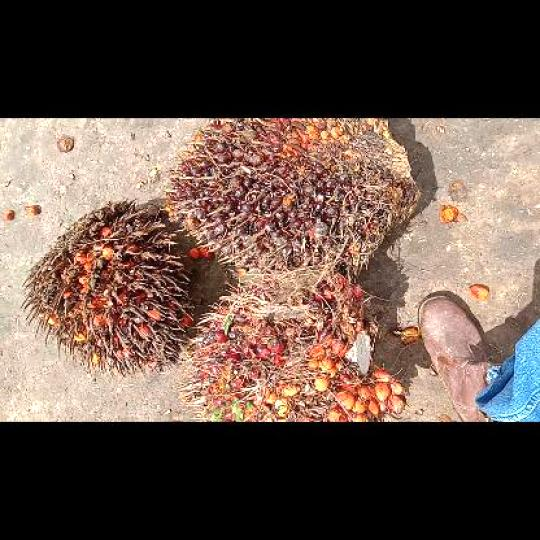kurang masak: (173, 118, 422, 279)
masak: (184, 270, 403, 422)
terlalu masak: (23, 200, 192, 370)
